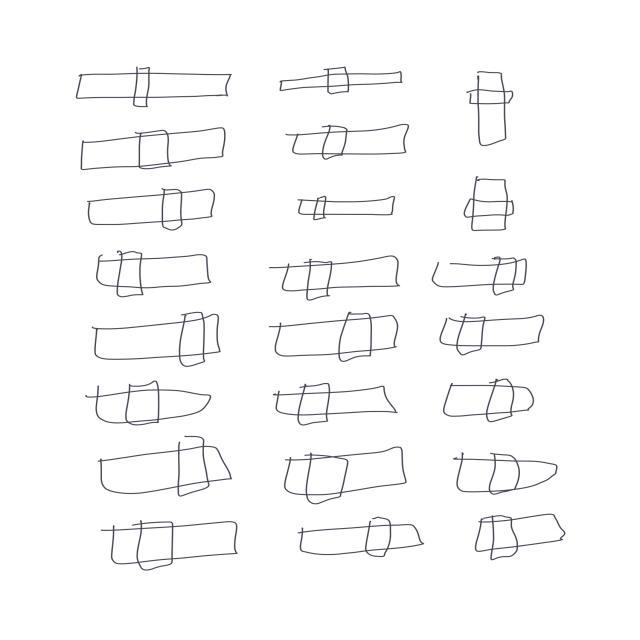Slider: (49, 50, 250, 110), (78, 433, 243, 503), (52, 117, 242, 176), (90, 515, 256, 576), (78, 305, 218, 374), (260, 303, 403, 366), (78, 374, 234, 427), (431, 444, 576, 501), (284, 441, 410, 502), (80, 187, 246, 232), (460, 509, 593, 565), (261, 378, 406, 429), (72, 250, 225, 298), (260, 61, 398, 114), (267, 118, 425, 164), (453, 58, 524, 156), (268, 248, 406, 298), (432, 305, 552, 358), (284, 182, 416, 228), (437, 373, 542, 430), (287, 523, 435, 561), (423, 252, 543, 298), (453, 167, 525, 240)
